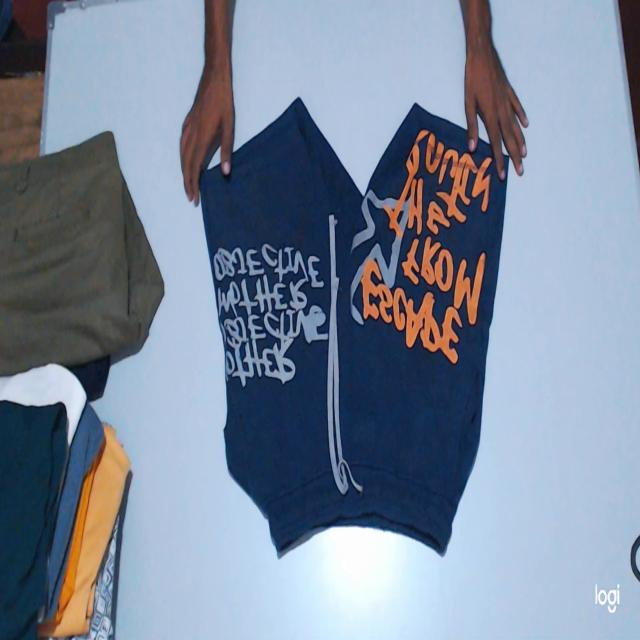new-garment: (200, 98, 508, 555)
